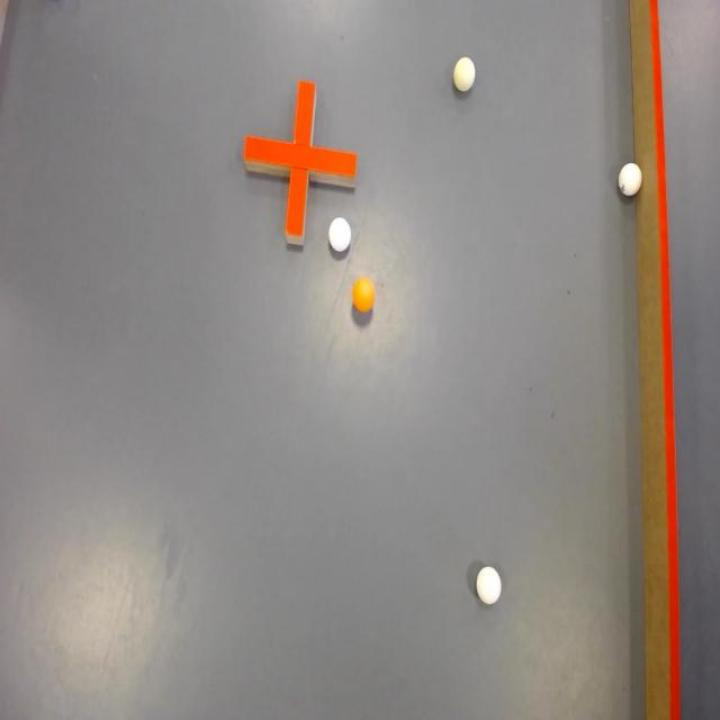orange: (352, 277, 375, 313)
white: (474, 564, 504, 608), (326, 216, 352, 262), (618, 163, 643, 198), (453, 57, 476, 92)
